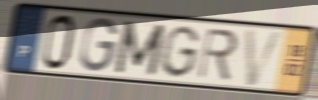0: (40, 12, 79, 71)
G: (157, 24, 203, 80), (78, 16, 121, 74)
M: (112, 19, 168, 78)
R: (195, 27, 240, 83)
V: (243, 27, 287, 88)
